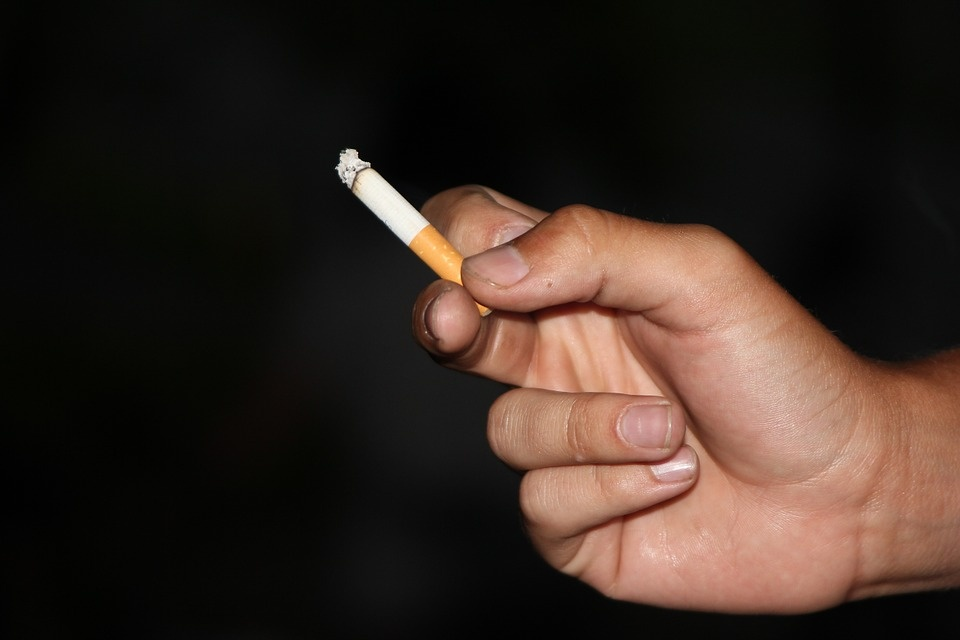sigaretta: (336, 162, 512, 324)
